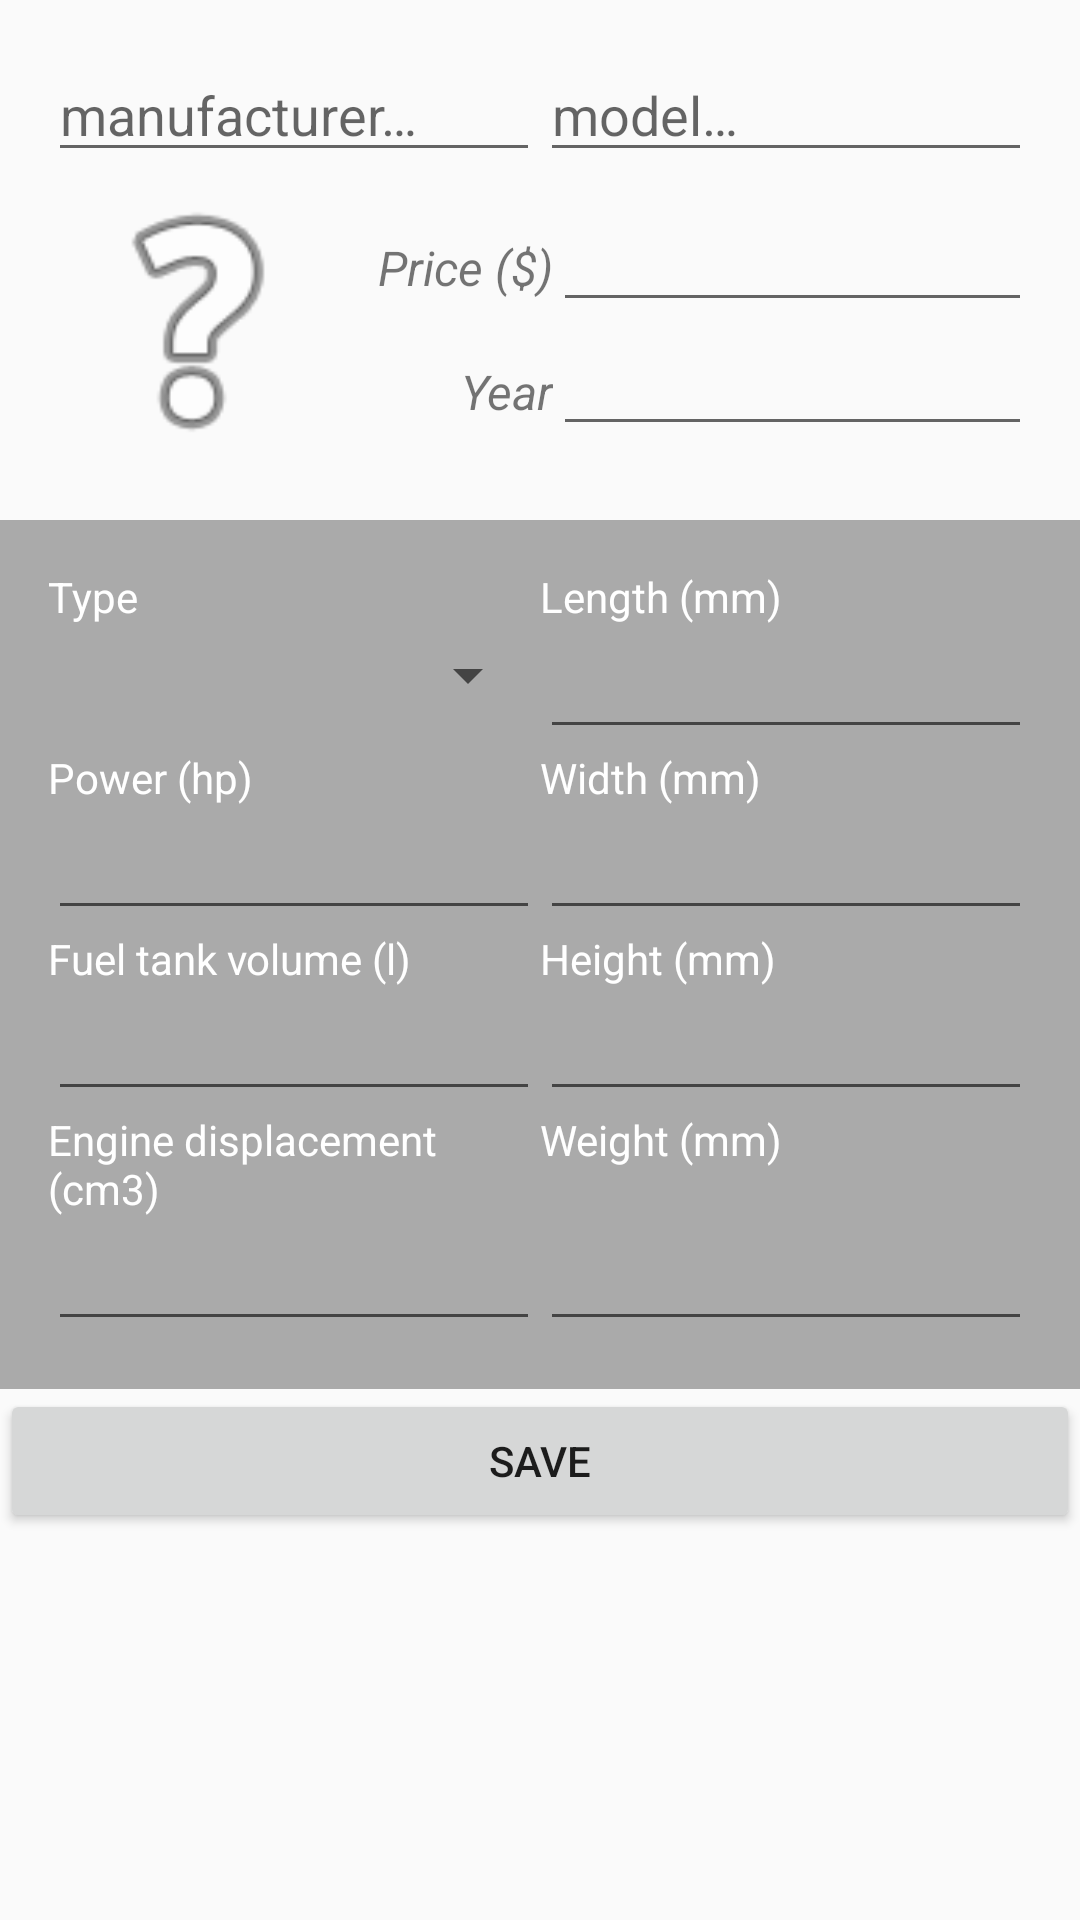

Icon bounding boxes for this 1080 x 1920 phone screenshot, format (x1, y1, x2, y2):
help: (132, 214, 264, 430)
